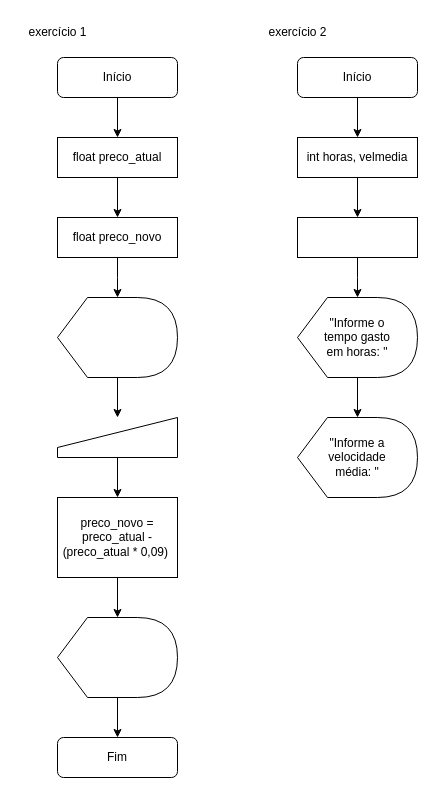
Image size: 435x795. Some labels were removed from this diagram. Here are the shapes that lost their labels. From the top down, the box of each, then its label:
(296, 216, 418, 258): float distancia, consumo
(56, 296, 178, 378): "Informe o preço atual do produto: "
(56, 416, 178, 458): preco_atual
(56, 616, 178, 698): "Novo preço com desconto de 9%: " preco_novo
